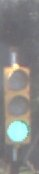Green: (4, 56, 31, 150)
